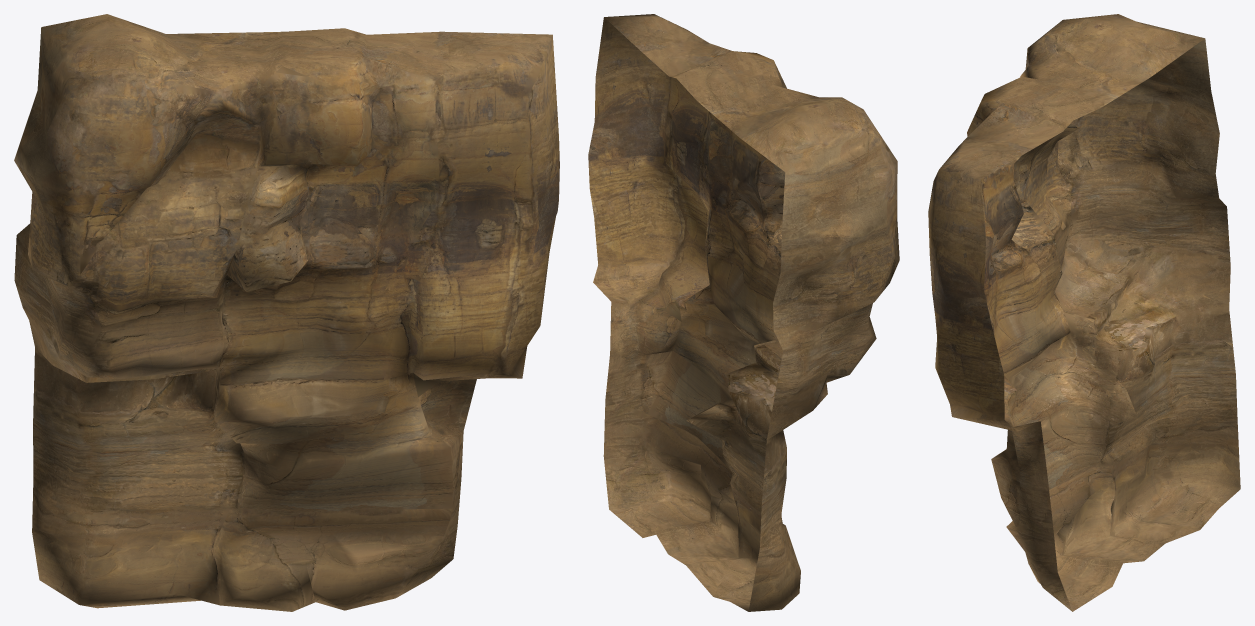
File: teste-1.fbx
3 views of the same model, side by side, from view 1: azimuth 30°, elevation 25°; view 2: azimuth 150°, elevation 25°; view 3: azimuth 270°, elevation 25° (orthographic). The views are drawn at different scales.
Parts seen in each view (by area): view 1: box002; view 2: box002; view 3: box002.
Boxes of the visible parts, x1=… form: box002: x1=14, y1=14, x2=559, y2=611; box002: x1=588, y1=14, x2=899, y2=611; box002: x1=928, y1=14, x2=1240, y2=611.
Size of the model in its own units: 11.51 by 14.65 by 8.61.
